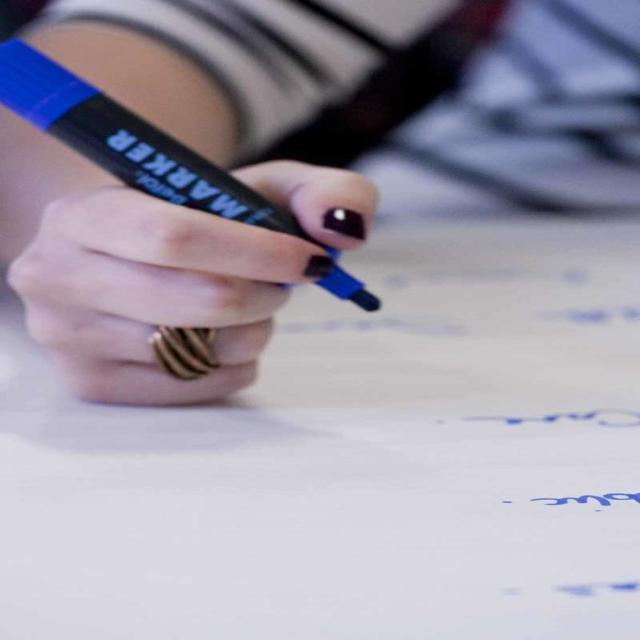pen: (0, 34, 392, 314)
